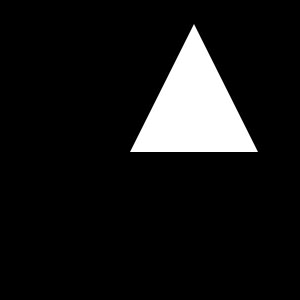triangle: (130, 24, 258, 152), (154, 51, 218, 115)
